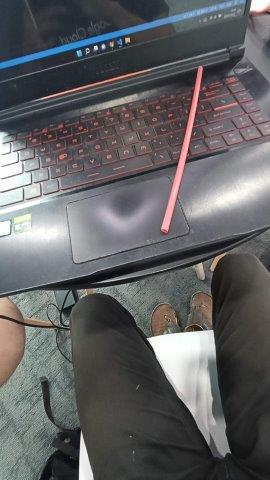sedotan: (162, 66, 202, 234)
